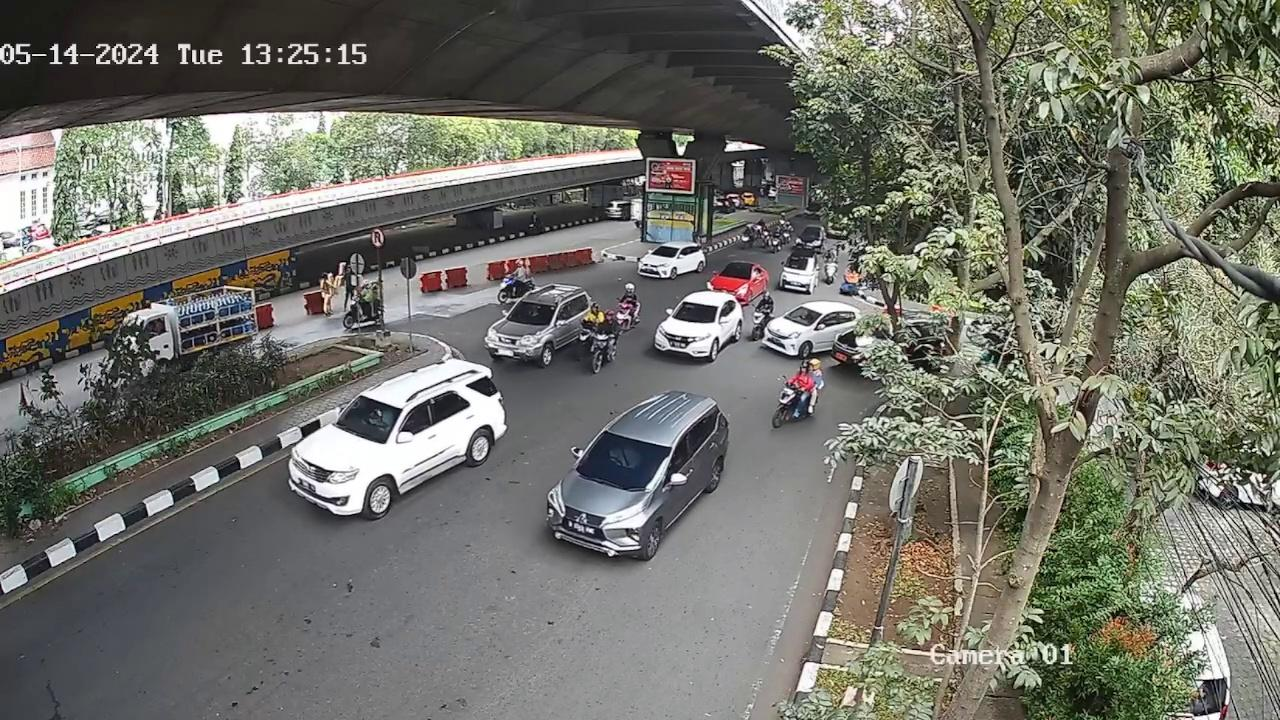pakai: (609, 441, 638, 469)
windshield: (579, 428, 669, 489), (334, 394, 405, 448), (511, 298, 558, 329), (673, 301, 721, 323)
